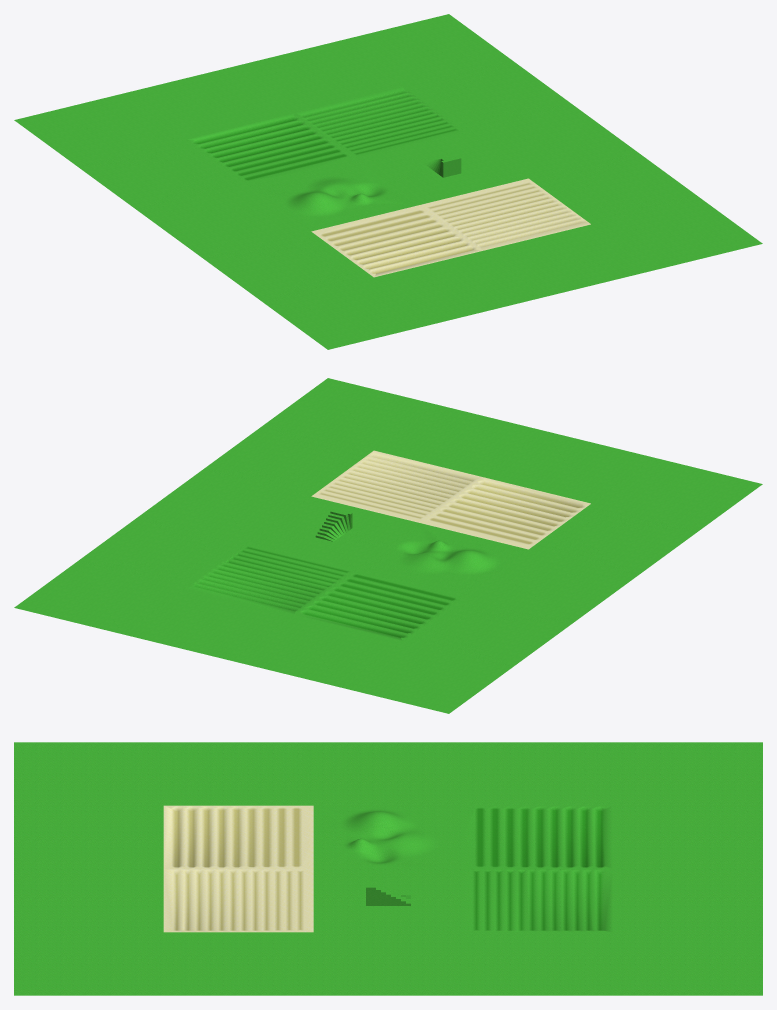
The model's file is glf_course_angle__glf_course_angle.glb.
The picture shows the model from 3 angles, top to bottom: view 1: azimuth 30°, elevation 25°; view 2: azimuth 150°, elevation 25°; view 3: azimuth 270°, elevation 25°; orthographic projection. The views are drawn at different scales.
Visible parts, largest first — view 1: polygon0, polygon2; view 2: polygon0, polygon2; view 3: polygon0, polygon2.
Boxes of the visible parts, x1,y1,x2,y2 form: polygon0: (14,14,762,349); polygon2: (311,178,590,277); polygon0: (14,378,762,713); polygon2: (311,450,590,549); polygon0: (14,742,762,995); polygon2: (163,805,313,932).
Size of the model in its own units: 4800 by 260 by 6000.
Materials: 3 (3 with a texture image).
